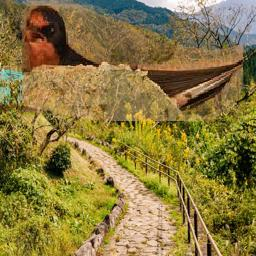Swallow: (23, 1, 244, 121)
